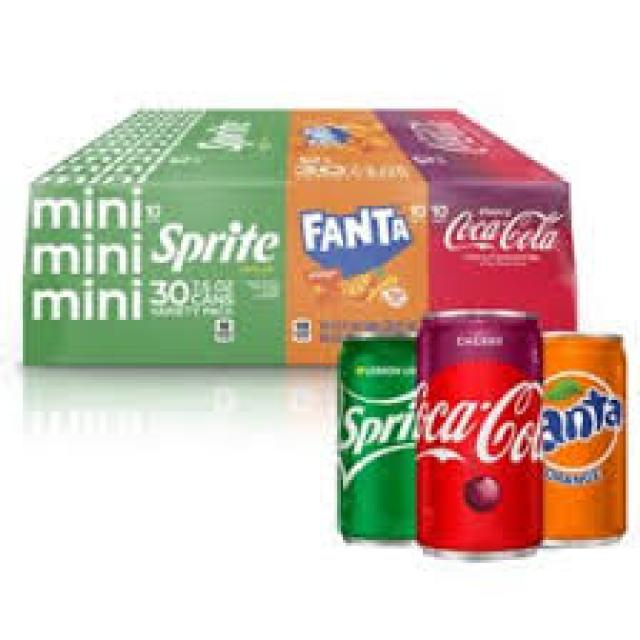Cans: (397, 303, 554, 566), (537, 328, 637, 552), (328, 326, 423, 551)
